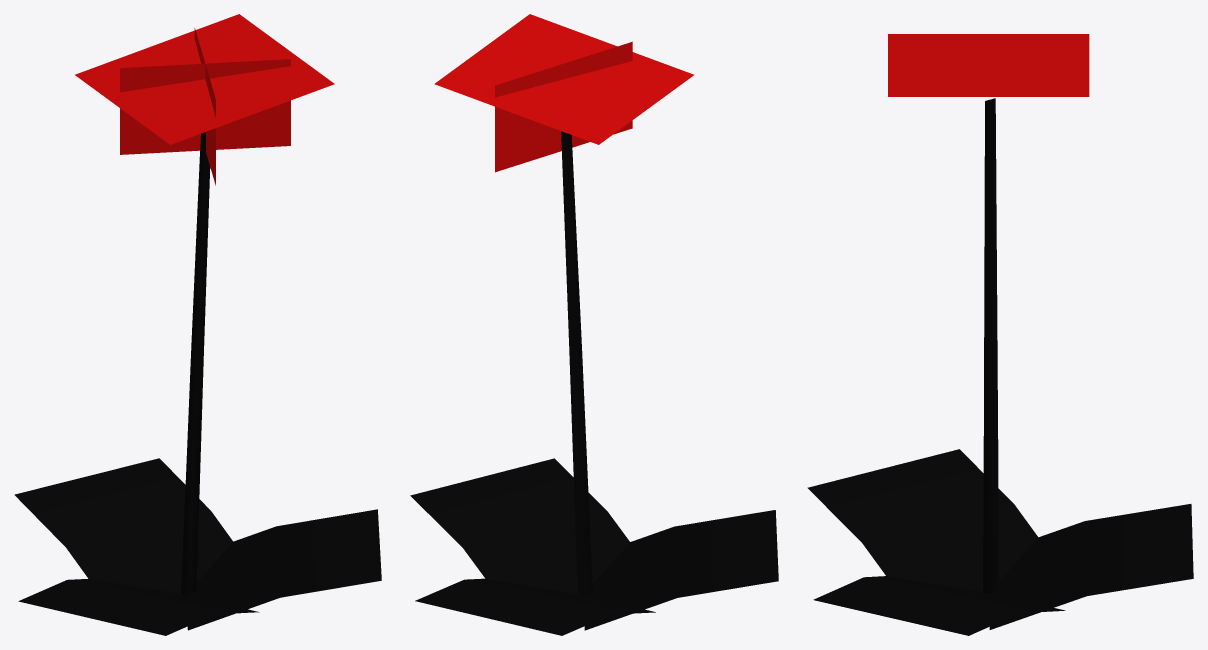
File: flower_red.glb
The picture shows the model from 3 angles, left to right: view 1: azimuth 30°, elevation 25°; view 2: azimuth 150°, elevation 25°; view 3: azimuth 270°, elevation 25°; orthographic projection. The views are drawn at different scales.
Visible parts, largest first — view 1: lod0; view 2: lod0; view 3: lod0.
Boxes of the visible parts, box(x1,y1,x2,y2) form: lod0: box(14, 14, 381, 635); lod0: box(410, 14, 778, 635); lod0: box(807, 34, 1193, 635).
Size of what is drawn, in the model's own units: 0.7465 by 1.05 by 0.6522.
